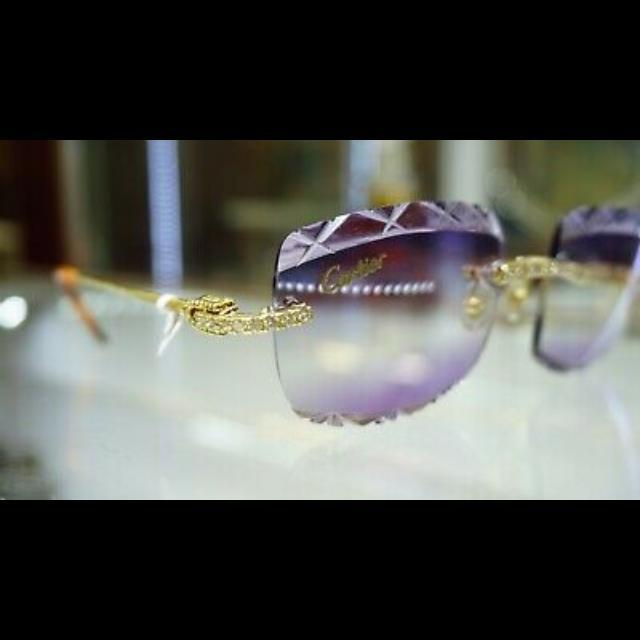sunglasses: (56, 197, 640, 429)
